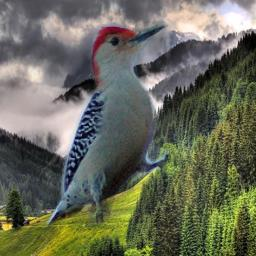Woodpecker: (43, 21, 170, 232)
